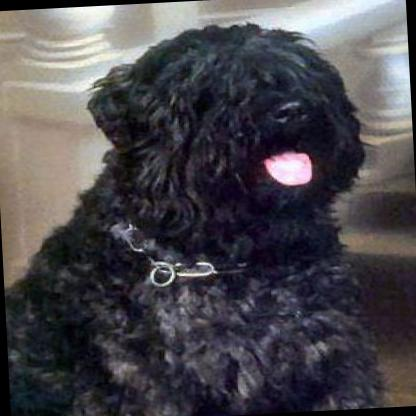Bouvier_des_Flandres: (0, 13, 386, 416)
